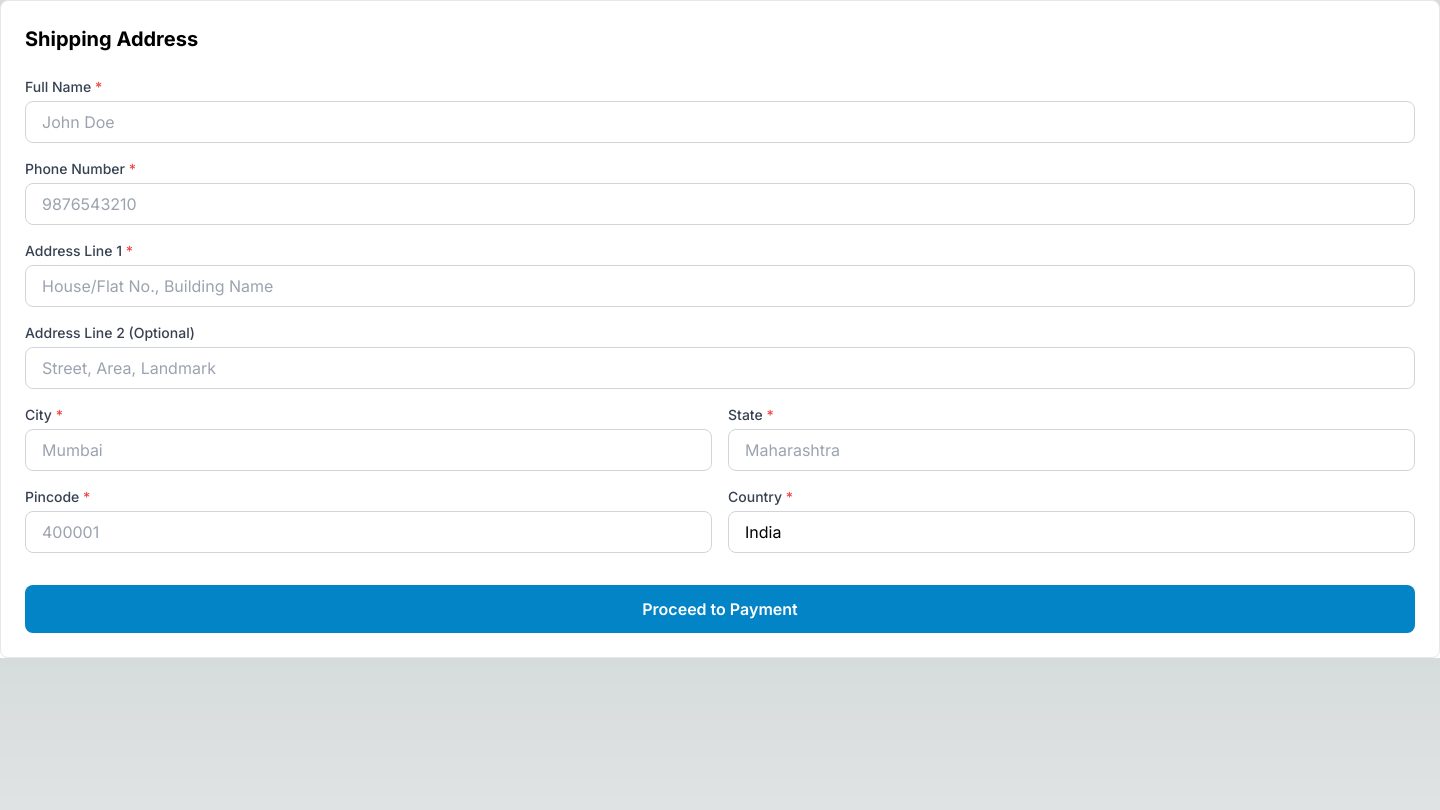
Test: CheckoutForm › validates phone number format
Type "123" into the field labelled "Phone Number *" at coordinates (720, 204), box [25,183,1415,225]
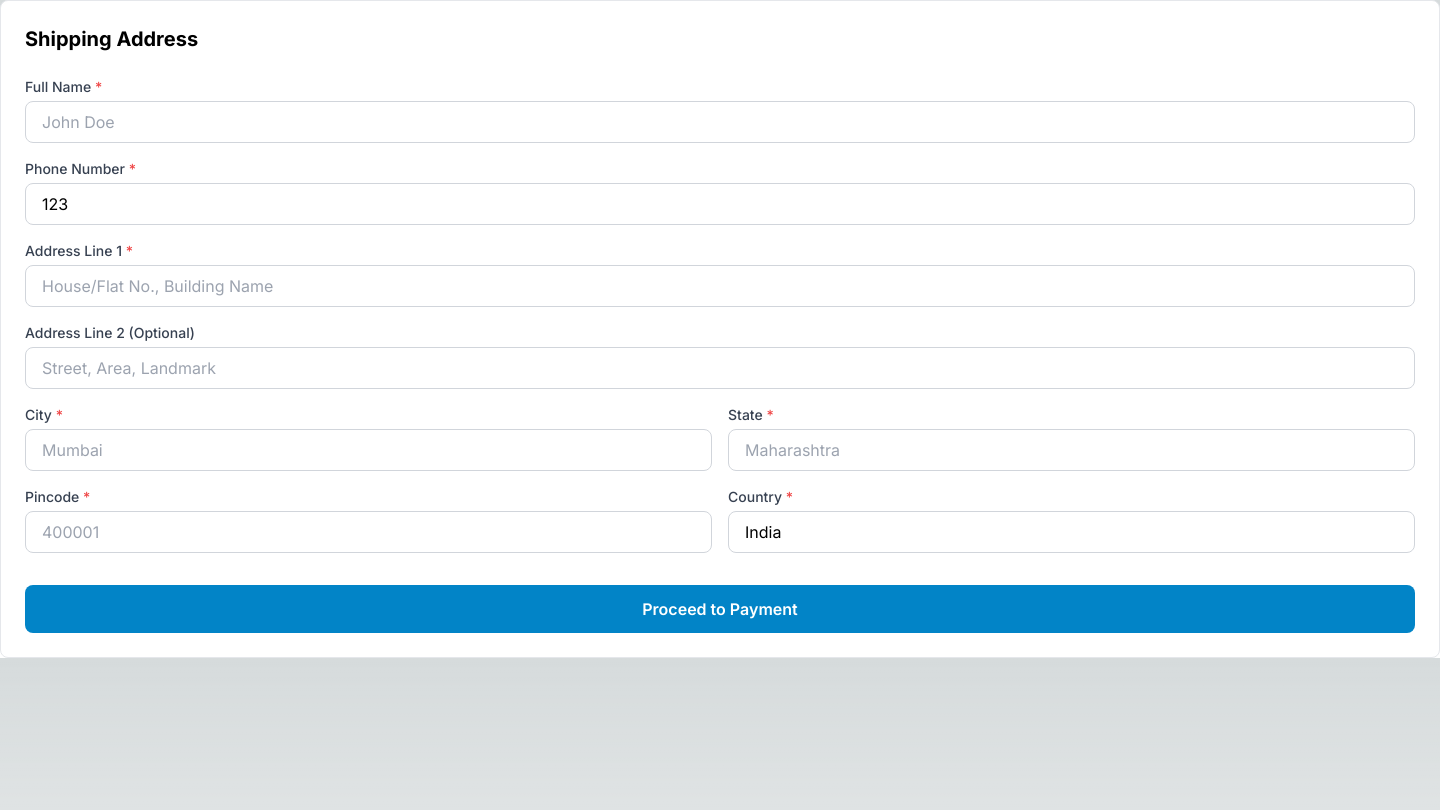
Click the button "Proceed to Payment" at coordinates (720, 609), box [25,585,1415,633]
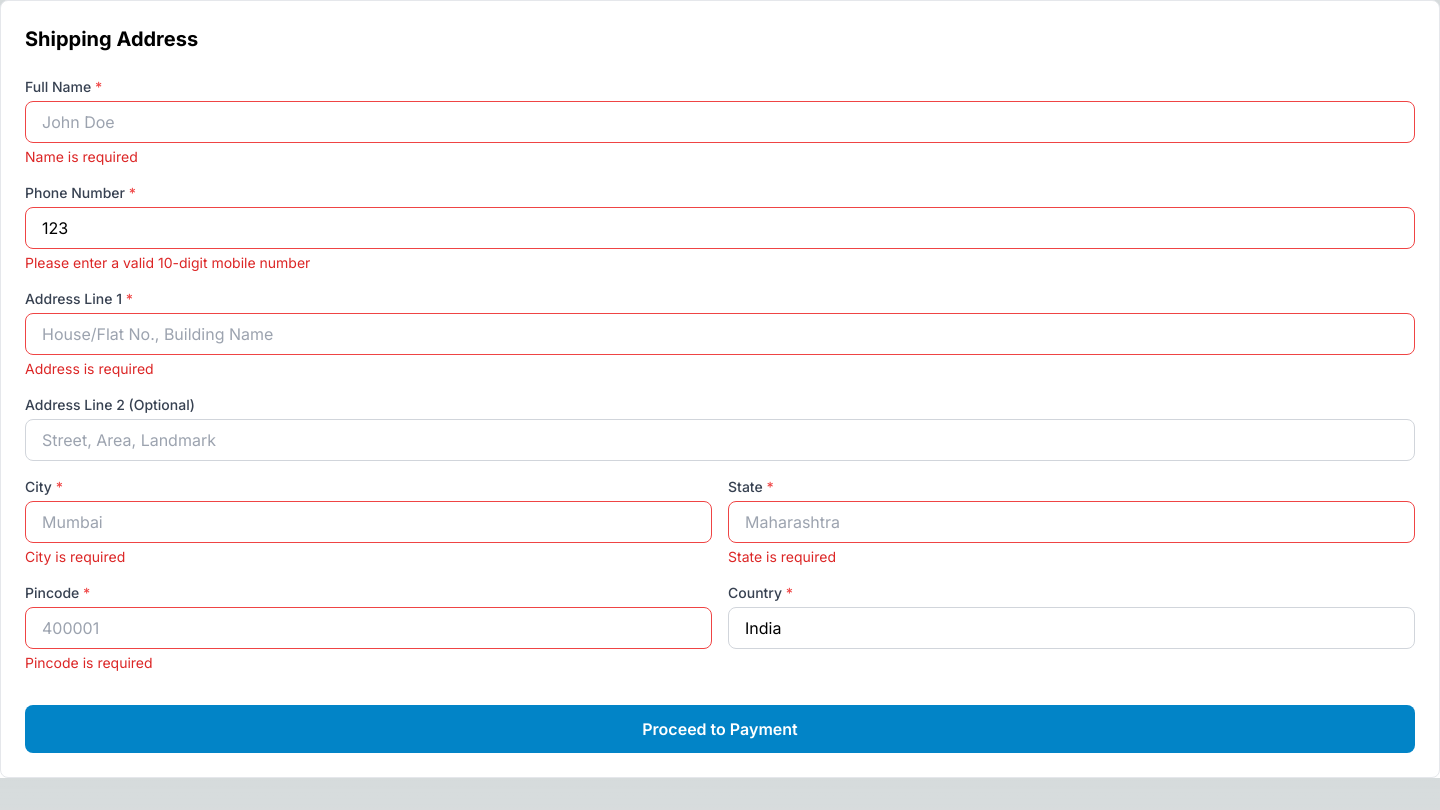
Now the text "Please enter a valid 10-digit mobile number" is shown, box [25,254,310,271]
